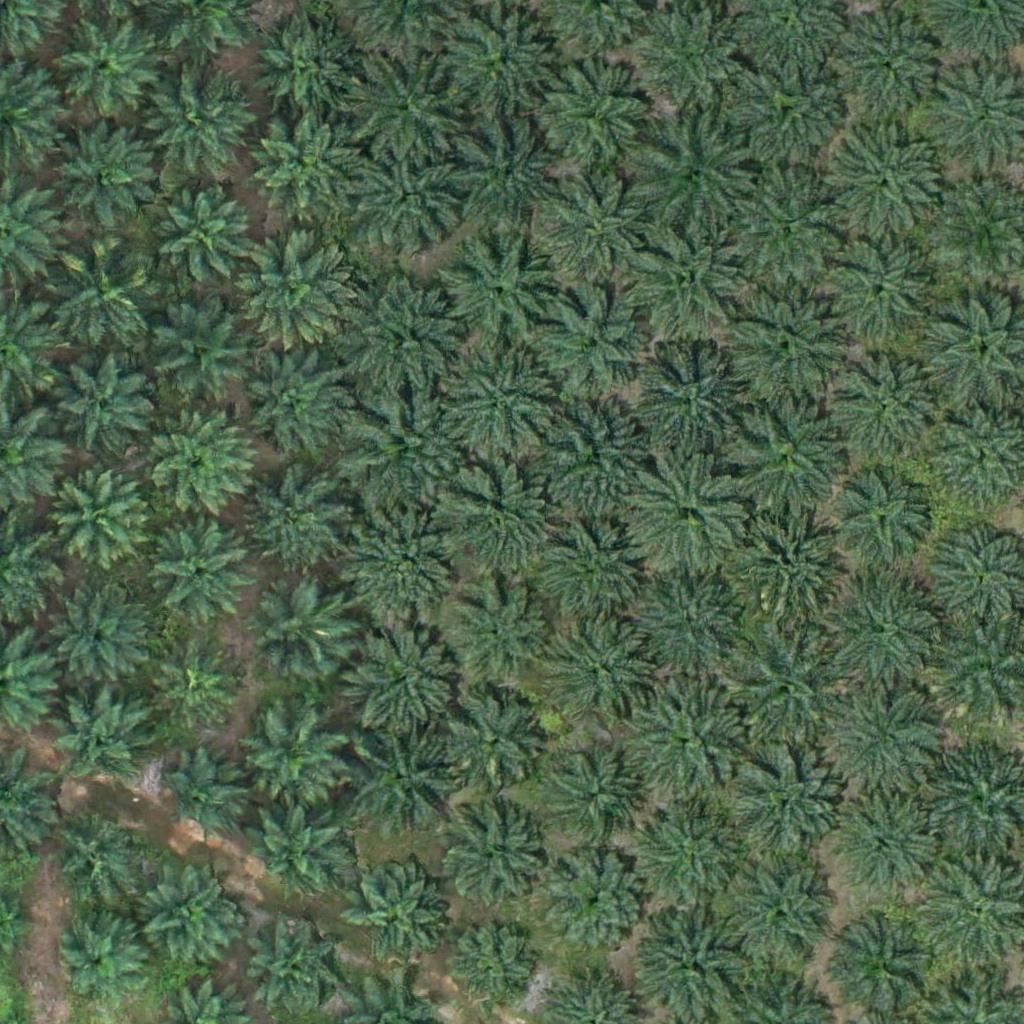Kelapa_Sawit: (233, 220, 358, 346), (229, 337, 354, 463), (346, 278, 471, 404), (346, 389, 471, 515), (446, 108, 571, 234), (633, 114, 758, 240), (622, 220, 747, 346), (630, 349, 755, 475), (723, 285, 848, 411), (723, 167, 848, 293), (730, 51, 855, 177), (343, 498, 468, 624), (434, 463, 559, 589), (624, 795, 749, 921), (624, 673, 749, 799), (626, 453, 751, 579), (734, 494, 859, 620), (724, 617, 849, 743), (725, 746, 850, 872), (820, 684, 945, 810), (821, 574, 946, 700), (354, 39, 479, 164), (441, 341, 566, 466), (338, 615, 463, 740), (626, 6, 739, 120), (824, 233, 937, 347), (837, 356, 950, 470), (627, 577, 740, 691), (142, 67, 255, 180), (438, 238, 551, 351), (538, 284, 651, 397), (539, 172, 652, 285), (833, 130, 946, 243), (347, 726, 460, 839), (723, 859, 836, 972), (44, 244, 156, 358), (144, 411, 256, 525), (539, 62, 651, 176), (245, 110, 357, 223), (353, 146, 465, 259), (732, 404, 844, 517), (830, 909, 942, 1022), (54, 13, 154, 114), (52, 120, 152, 221), (154, 188, 254, 289), (254, 20, 354, 121), (245, 799, 345, 900), (140, 868, 240, 969), (51, 592, 151, 693), (51, 686, 151, 787), (44, 805, 144, 906), (850, 16, 950, 117), (346, 866, 446, 967), (443, 814, 543, 915), (441, 693, 541, 794), (446, 581, 546, 682), (554, 623, 654, 724), (547, 852, 647, 953), (832, 471, 932, 572), (58, 349, 158, 449), (148, 303, 248, 403), (245, 475, 345, 575), (253, 583, 353, 683), (241, 709, 341, 809), (152, 525, 252, 625), (49, 470, 149, 570), (535, 516, 635, 616), (842, 804, 942, 904), (545, 403, 644, 503), (160, 753, 248, 841), (153, 645, 241, 733), (247, 923, 335, 1011), (550, 757, 638, 845), (58, 920, 145, 1009), (446, 924, 533, 1012)
